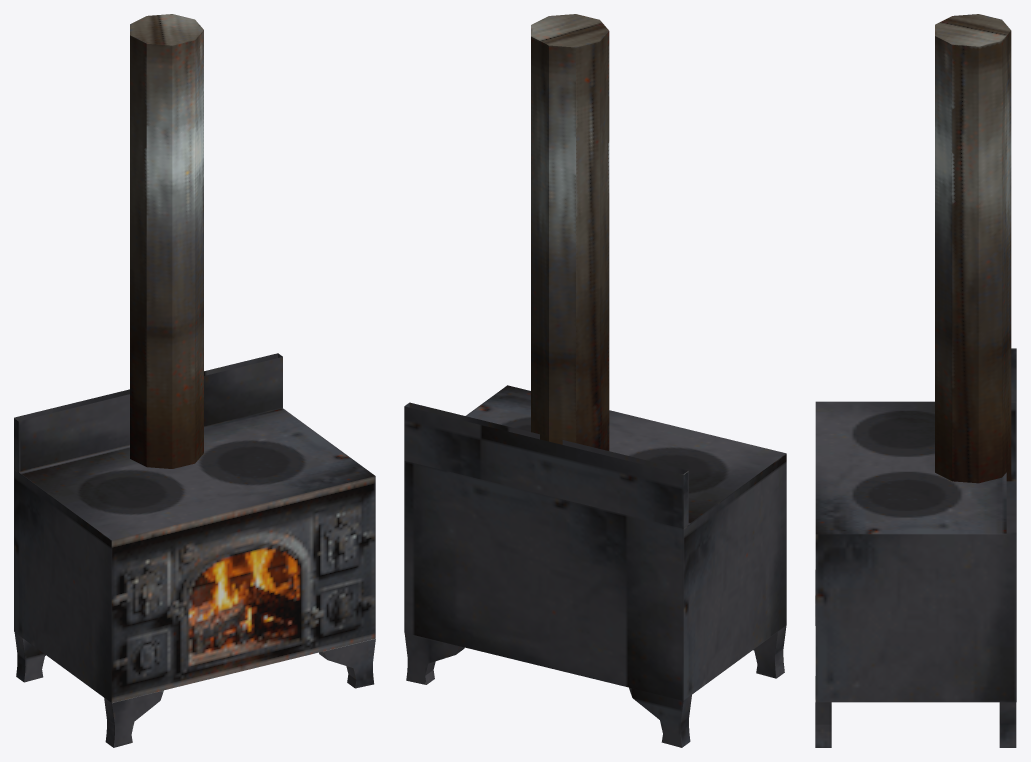
File: Stove.fbx
The picture shows the model from 3 angles, left to right: view 1: azimuth 30°, elevation 25°; view 2: azimuth 150°, elevation 25°; view 3: azimuth 270°, elevation 25°; orthographic projection. The views are drawn at different scales.
Parts seen in each view (by area): view 1: Cube; view 2: Cube; view 3: Cube.
Part boxes in pixels (x1,y1,x2,y2): Cube: (14, 14, 375, 747); Cube: (404, 14, 786, 747); Cube: (815, 14, 1016, 747).
Size of the model in its own units: 235 by 538 by 151.
Materials: 1 (1 with a texture image).
